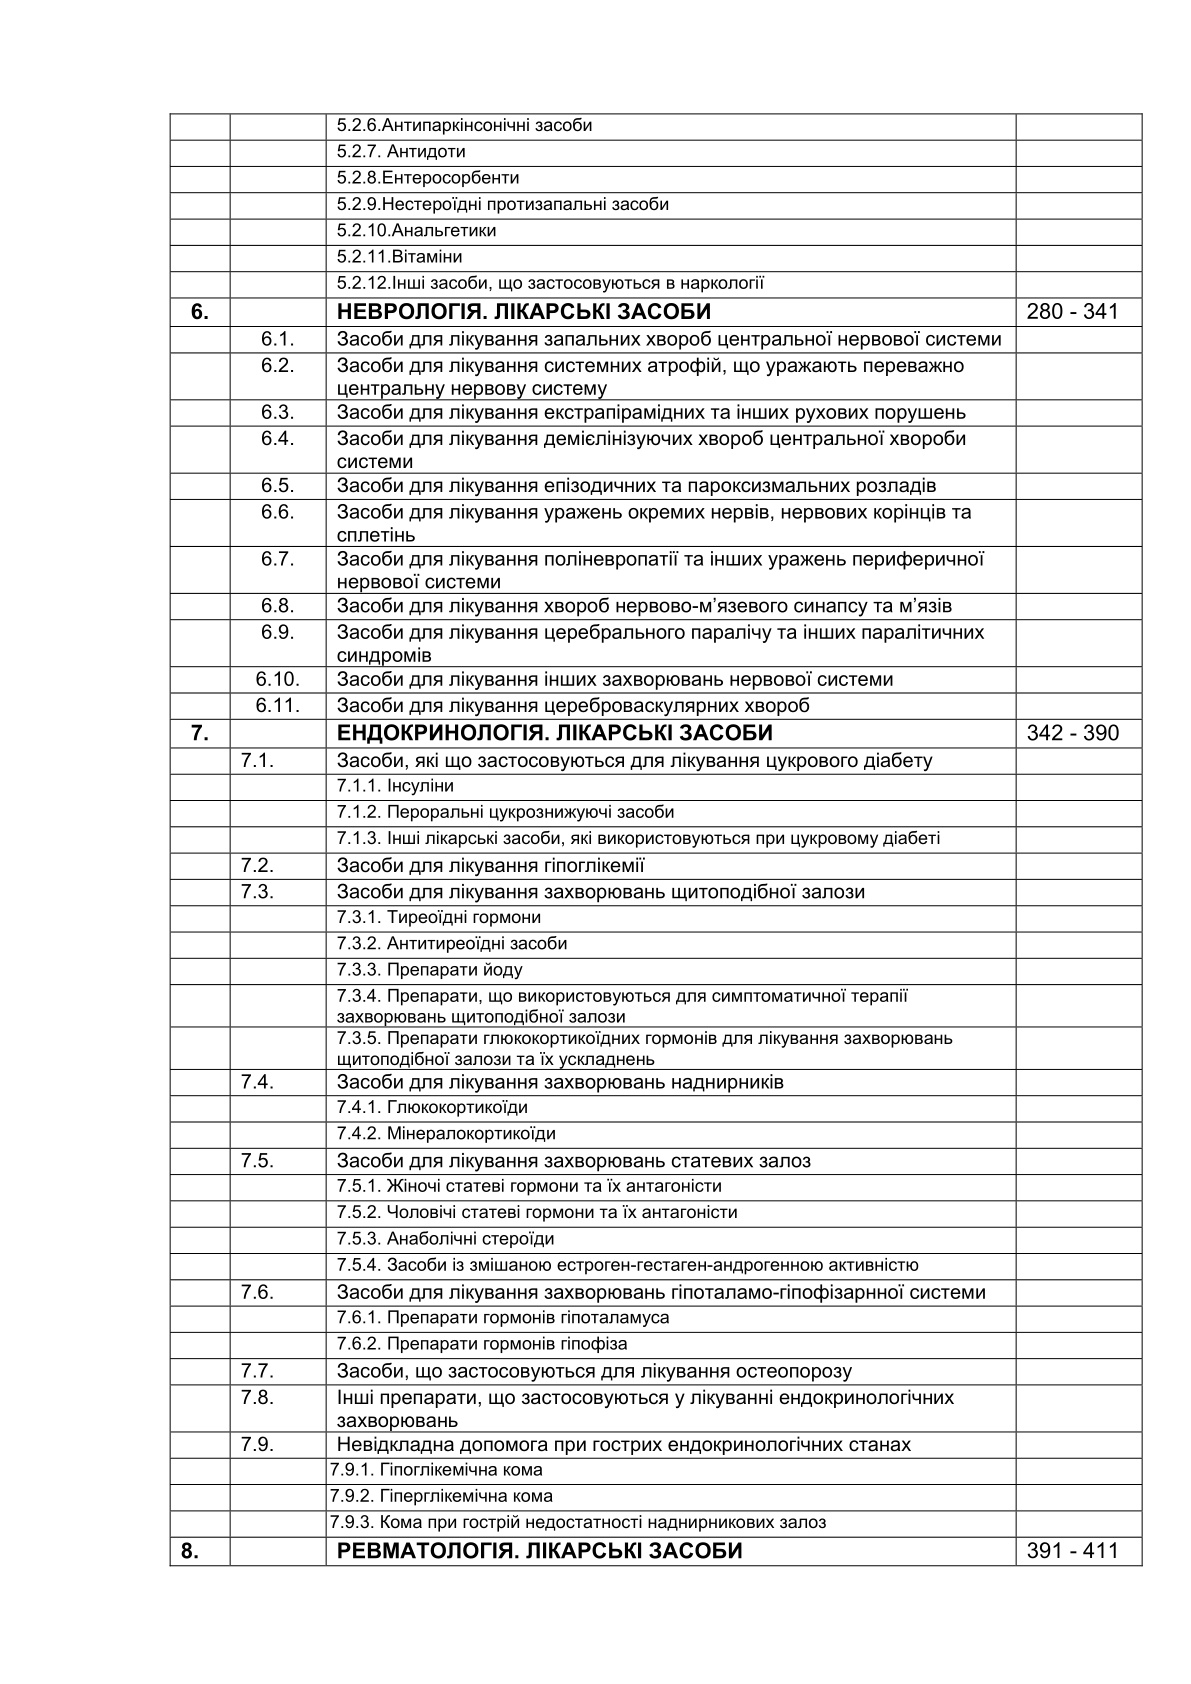full_lined: (168, 111, 1143, 1567)
